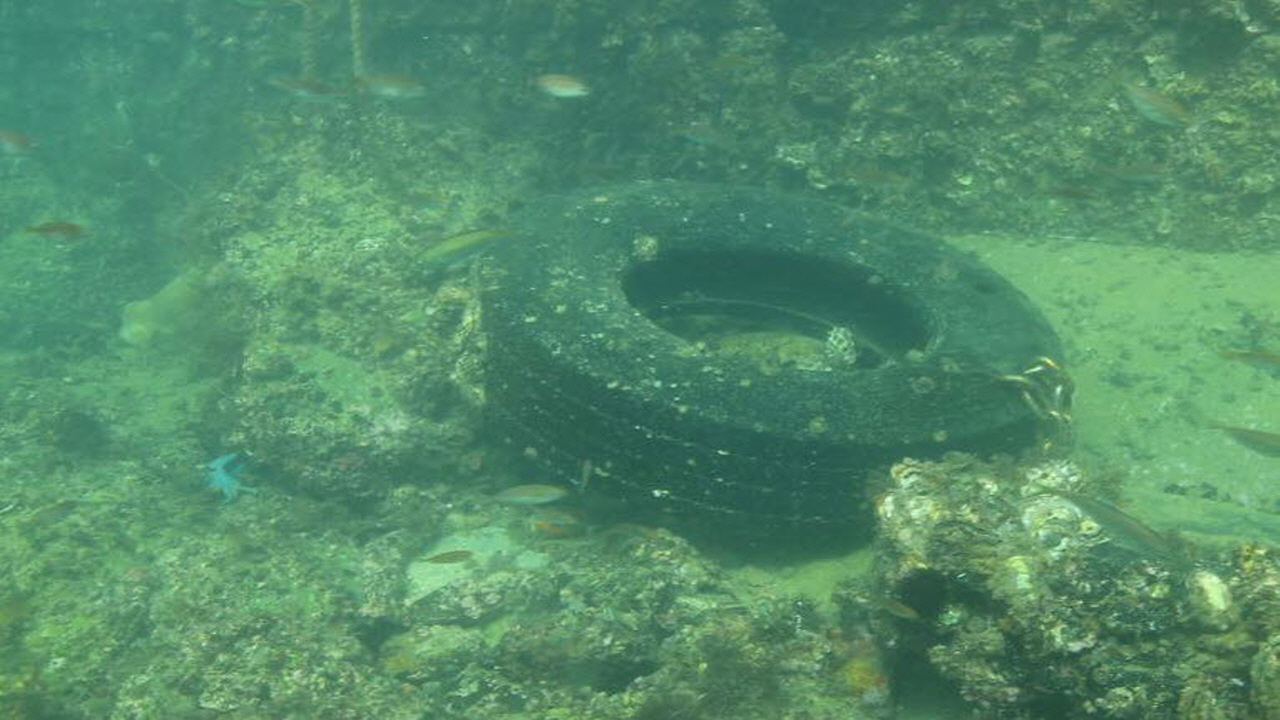tire: (476, 182, 1066, 532)
